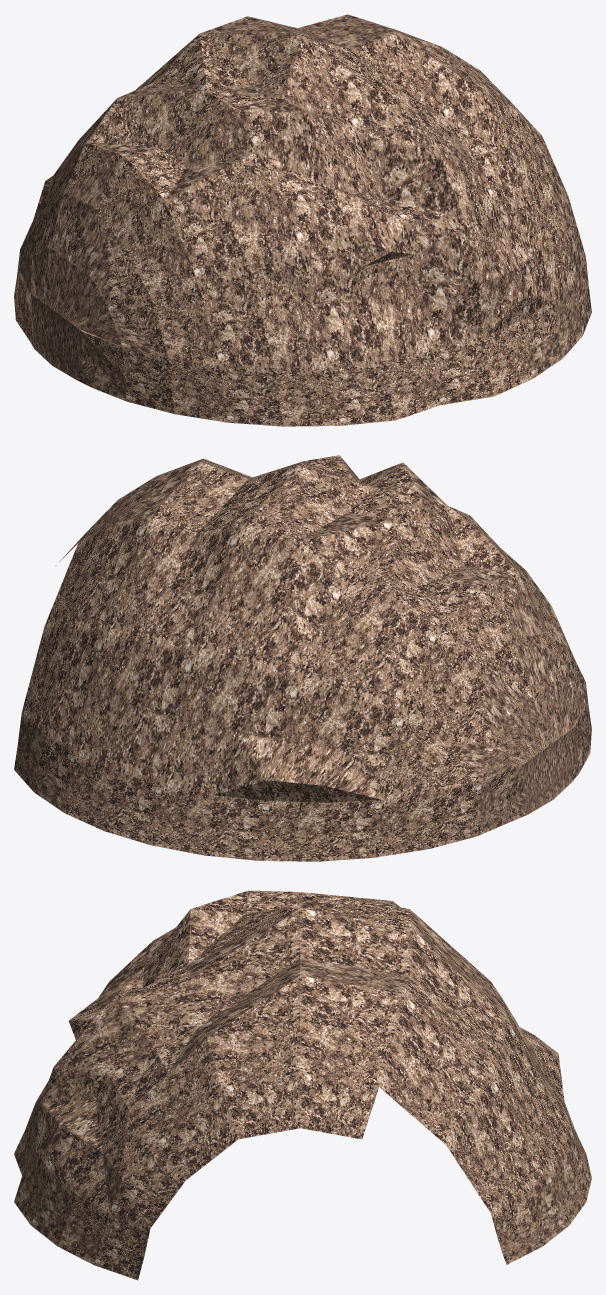
3 renders of one model, top to bottom at view 1: azimuth 30°, elevation 25°; view 2: azimuth 150°, elevation 25°; view 3: azimuth 270°, elevation 25°, orthographic.
Parts seen in each view (by area): view 1: mesh00; view 2: mesh00; view 3: mesh00.
Part boxes in pixels (x1,y1,x2,y2): mesh00: (14,14,591,426); mesh00: (14,455,591,861); mesh00: (14,890,591,1280).
Size of the model in its own units: 18316 by 10200 by 19808.
Materials: 1 (1 with a texture image).
